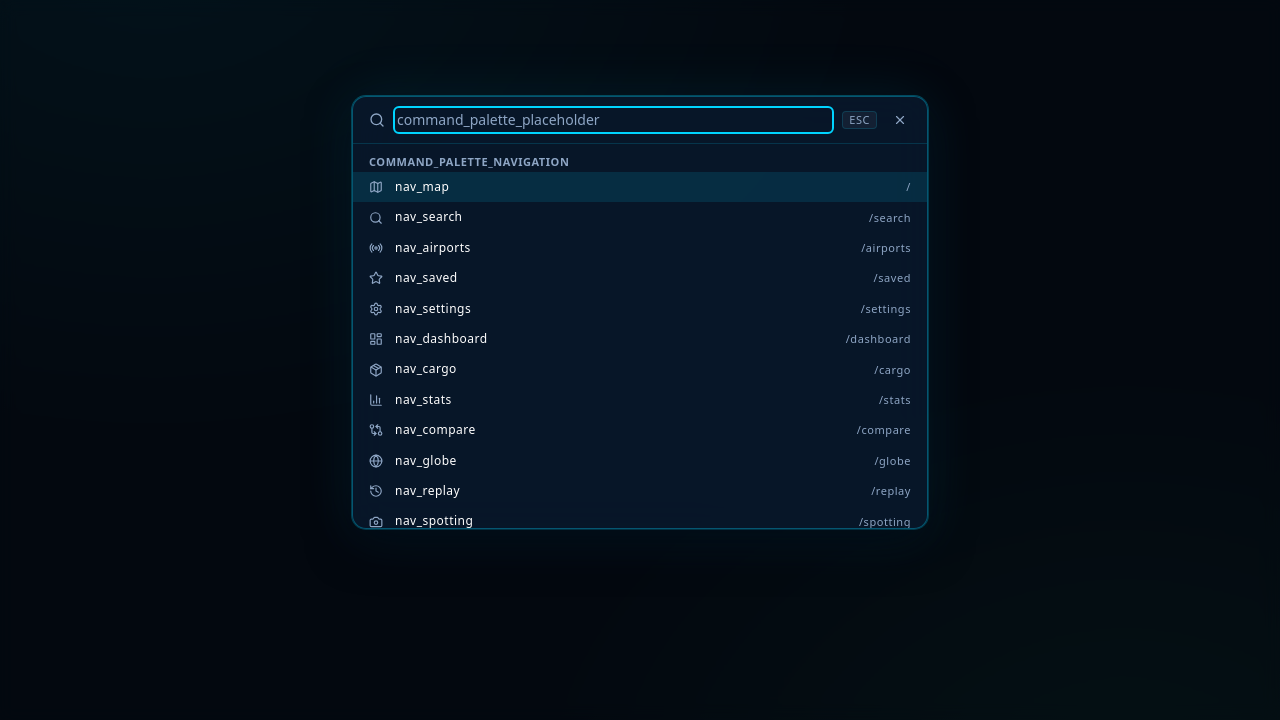
Test: <CommandPalette /> › filters navigation by label substring
Type "settings" into the field. click: x=614, y=120
box: 397,110 -> 830,130
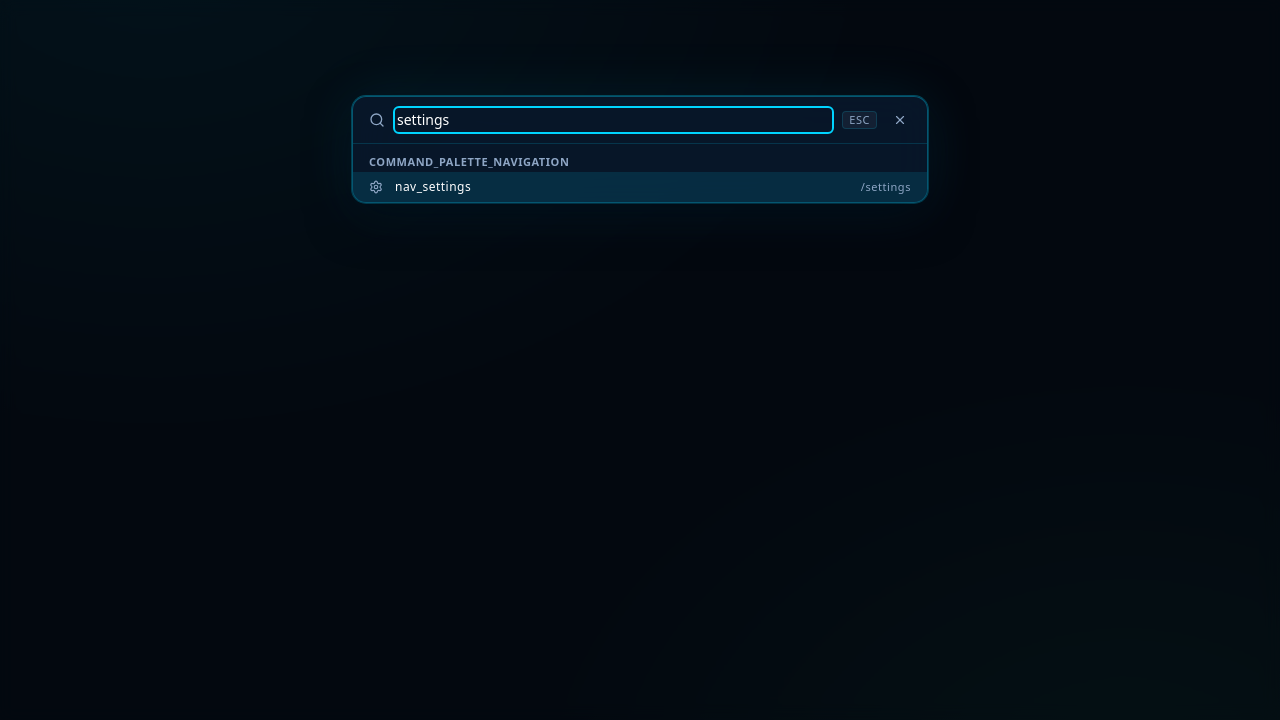
Expected: the option shows "nav_settings", 353,172 -> 927,202
Expected: the number of options is 1, 353,172 -> 927,202
